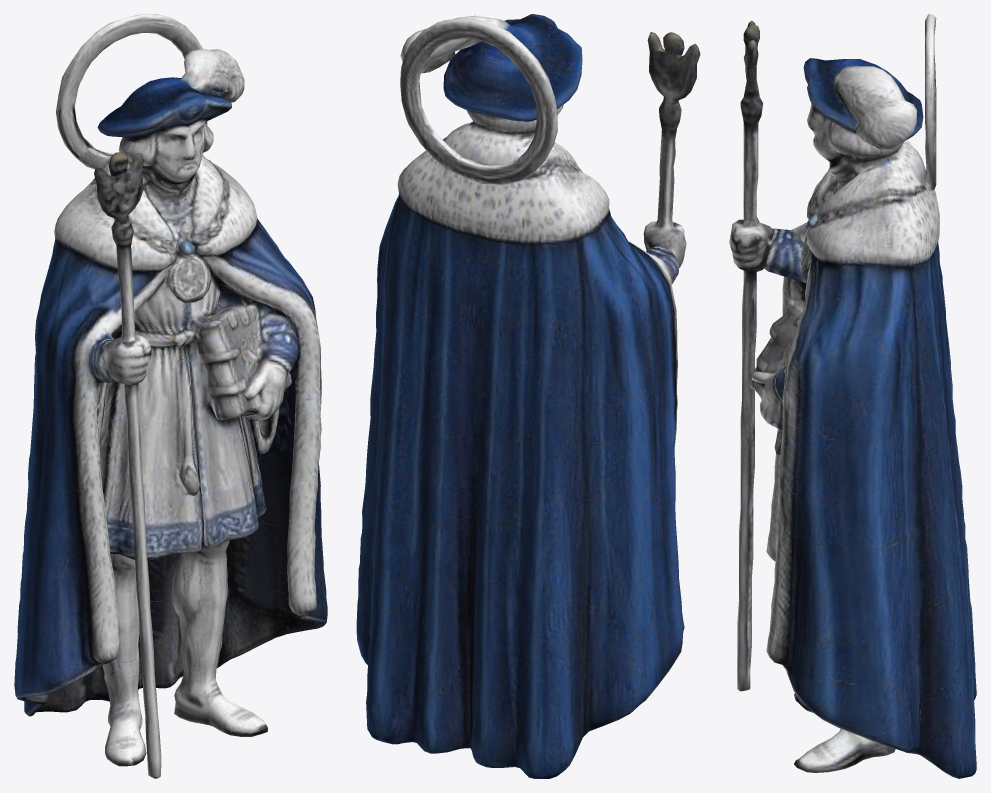
The model's file is Hanse_Mayor.glb.
The picture shows the model from 3 angles, left to right: view 1: azimuth 30°, elevation 25°; view 2: azimuth 150°, elevation 25°; view 3: azimuth 270°, elevation 25°; orthographic projection. The views are drawn at different scales.
Bounding box in the file's own units: 0.8219 × 1.91 × 0.5988.
1 material, 1 textured.
